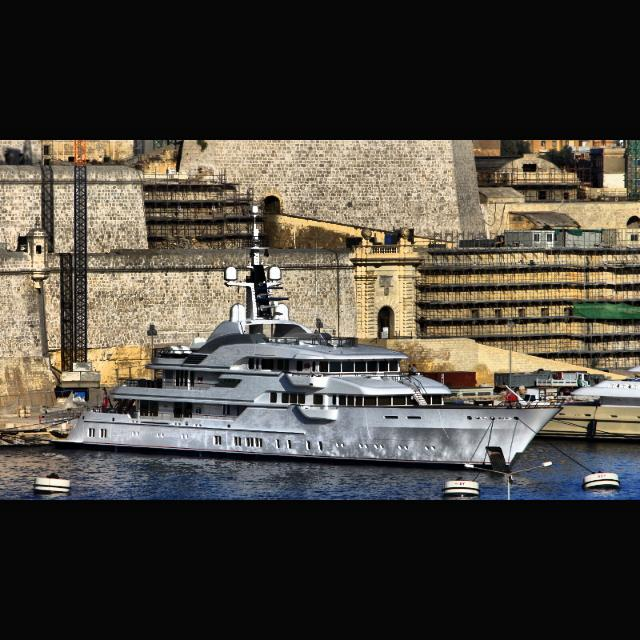buoy: (440, 474, 480, 500), (32, 472, 72, 496), (583, 471, 621, 491)
yacht: (49, 263, 565, 473)
